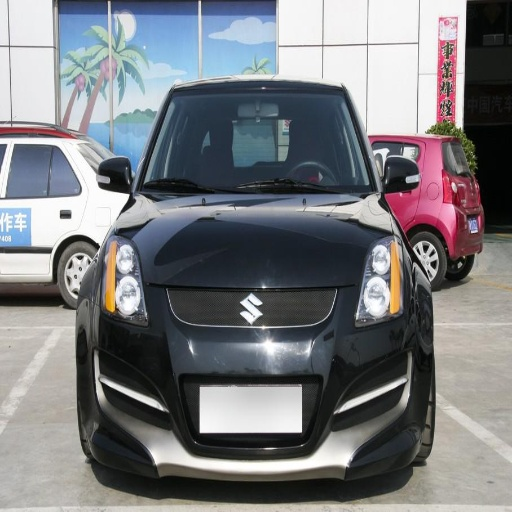front_bumper: (89, 283, 418, 478)
front_right_light: (99, 239, 151, 328)
hood: (129, 193, 393, 288)
left_mirror: (383, 154, 419, 193)
